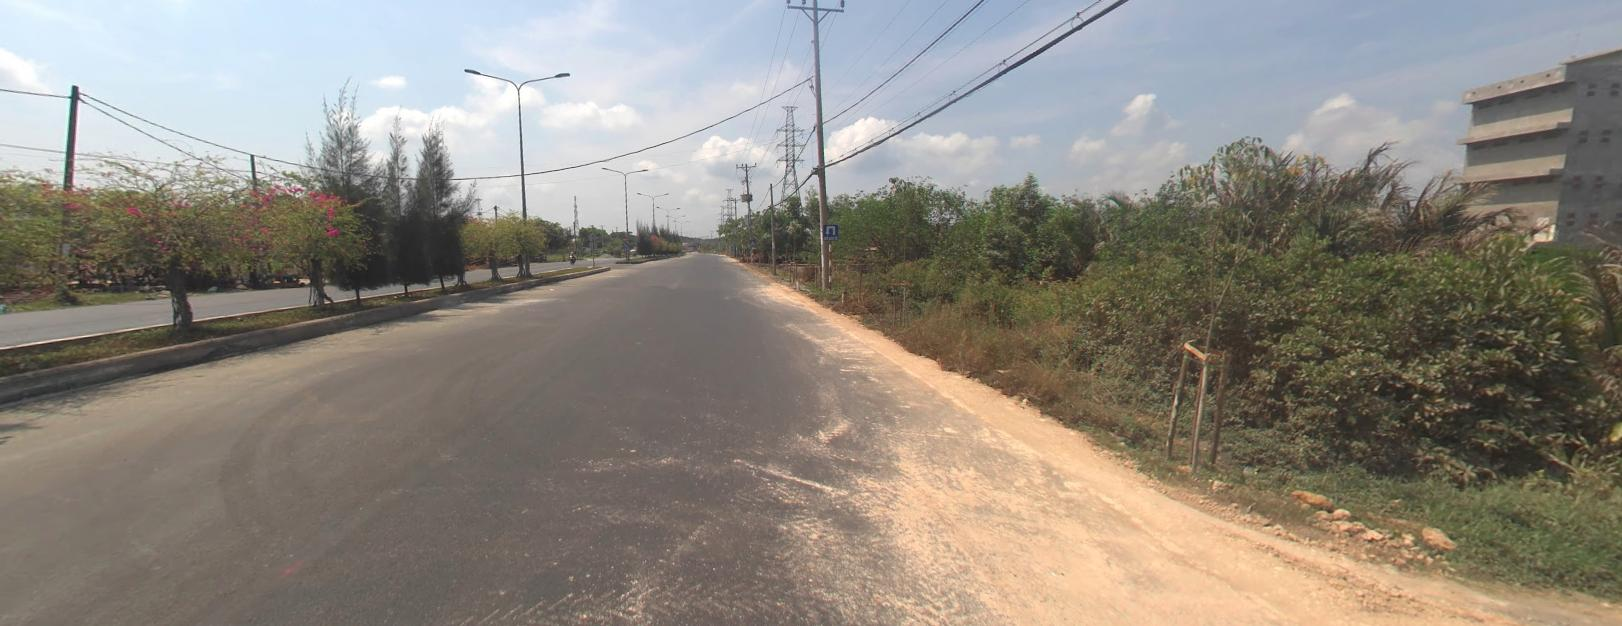Cam nguoc chieu: (621, 235, 627, 240)
Hieu lenh: (622, 241, 628, 246)
